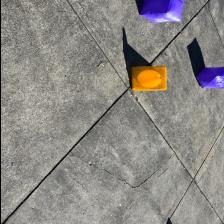cone: (130, 66, 166, 91)
cube: (138, 0, 184, 24), (194, 66, 224, 89)
